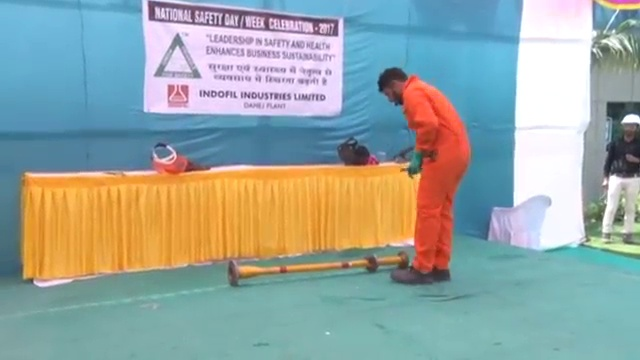helmet: (619, 111, 640, 126)
helmet_off: (377, 67, 410, 105)
helmet_on: (618, 111, 640, 142)
person: (374, 66, 472, 287), (599, 111, 640, 246)
